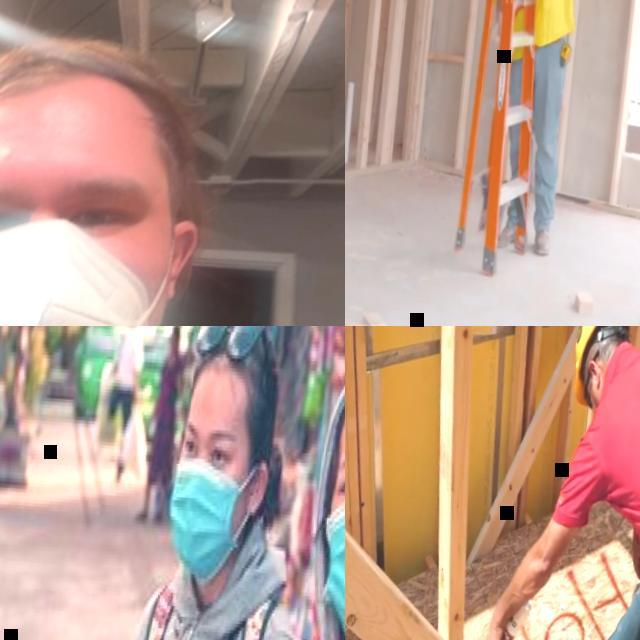helmet: (567, 326, 631, 409)
vest: (489, 0, 589, 67)
